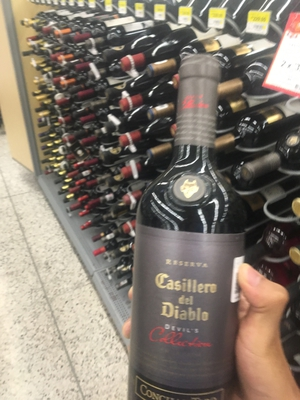casillero del diablo devils collection rojo: (128, 54, 245, 400)
